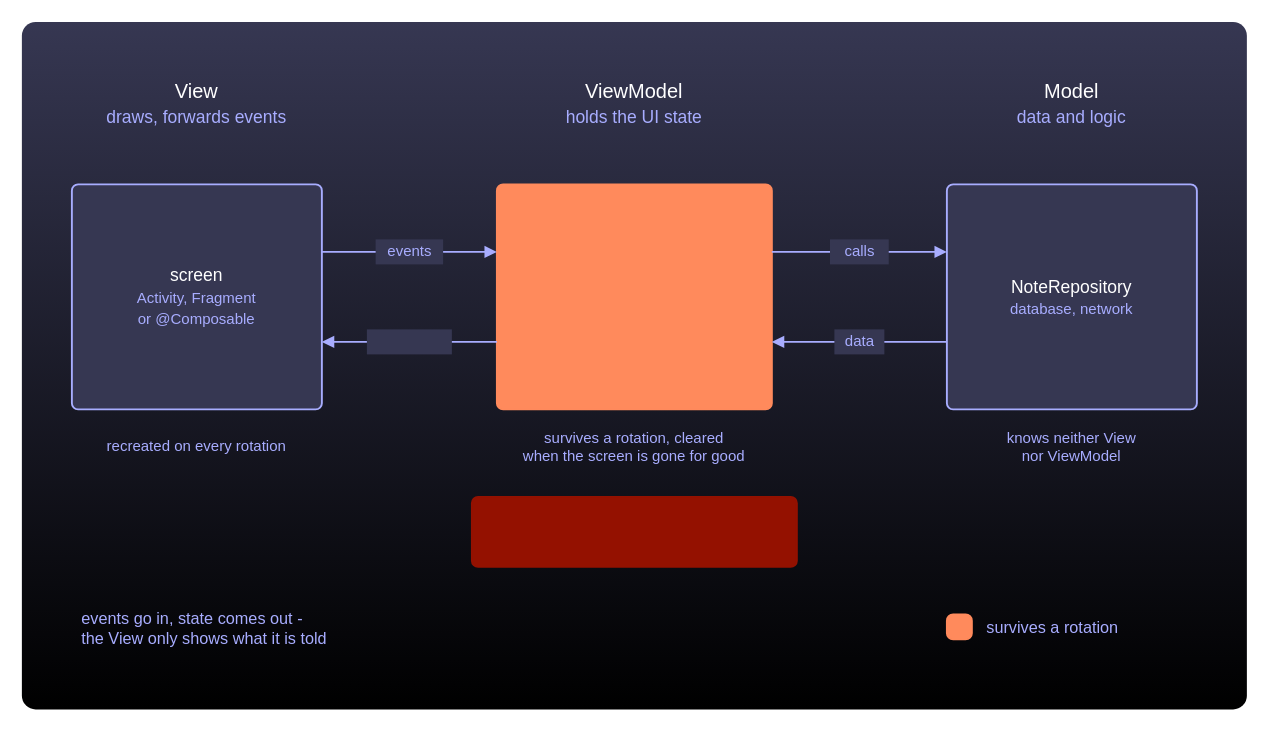
Some shapes in this 1268 by 730 pixel diagram are drawn without their labels. Each missing label, with the centre of its shape:
"no reference to a View or Context it outlives them - a memory leak" goes at (x=633, y=531).
"NoteViewModel StateFlow<UiState> viewModelScope" goes at (x=633, y=296).
"UI state" goes at (x=408, y=341).
